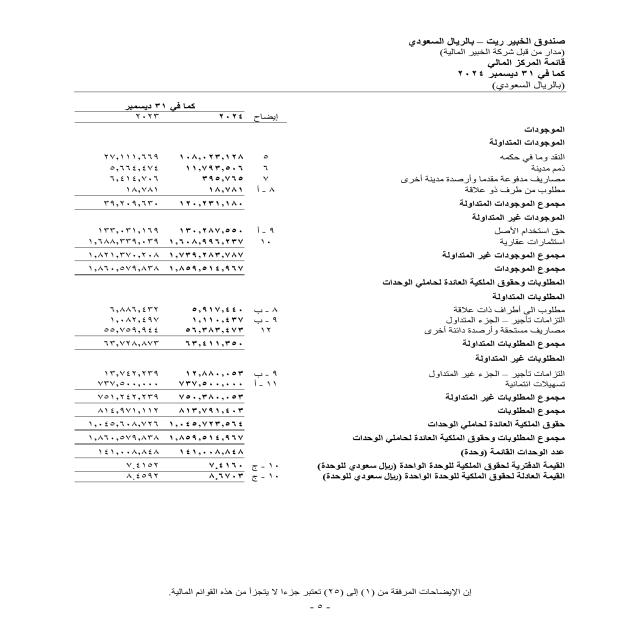financial_sheets: (483, 60, 582, 68)
table: (49, 98, 289, 496)
